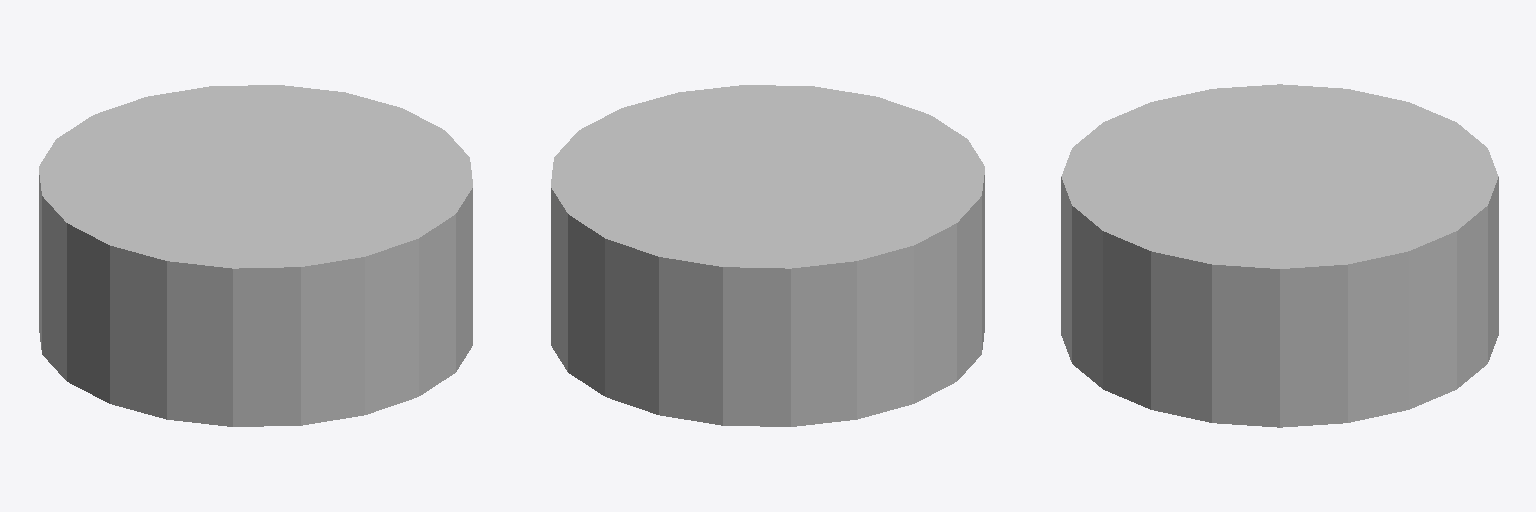
The model's file is entyu.obj.
3 views of the same model, side by side, from view 1: azimuth 30°, elevation 25°; view 2: azimuth 150°, elevation 25°; view 3: azimuth 270°, elevation 25° (orthographic).
Visible parts, largest first — view 1: pCylinder1; view 2: pCylinder1; view 3: pCylinder1.
Part boxes in pixels (left/top/right/bottom): pCylinder1: left=39, top=85, right=472, bottom=426; pCylinder1: left=551, top=85, right=984, bottom=426; pCylinder1: left=1061, top=84, right=1498, bottom=427.
Bounding box in the file's own units: 5 × 2 × 5.